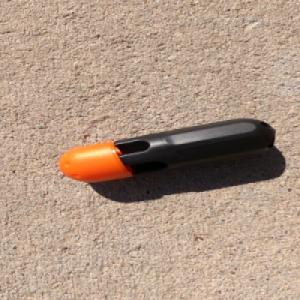PlasticPart: (59, 117, 275, 182)
